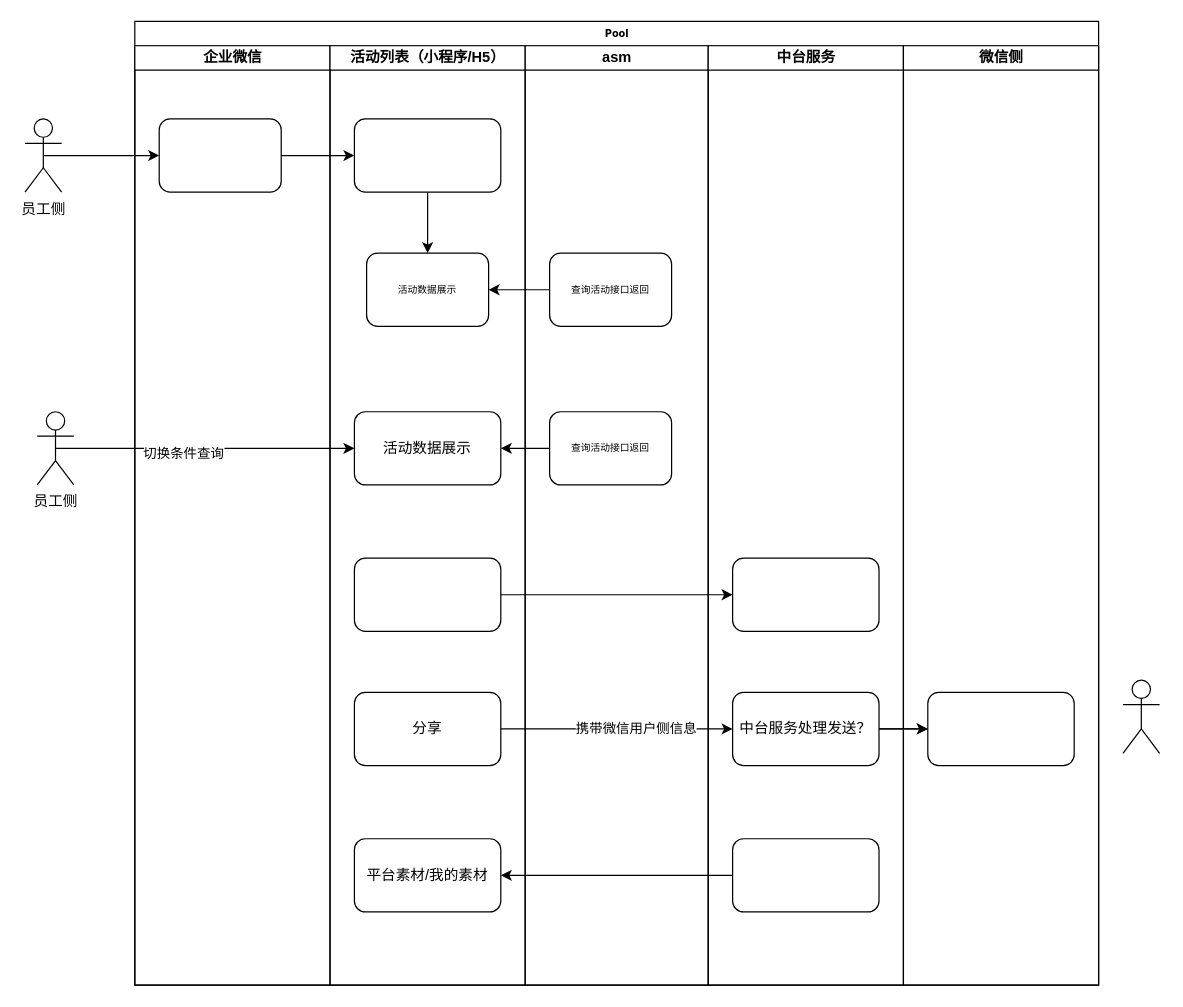
The diagram is 1183 pixels wide and 1007 high, and some of its shapes have lost their labels. Each missing label, with the centre of its shape:
客户侧: the point at 1141,716
收藏/取消收藏: the point at 427,594
活动列表: the point at 219,155
消息卡片展示: the point at 1000,728
素材接口: the point at 805,875
素材数据落库: the point at 805,594
页面定位: the point at 427,155
